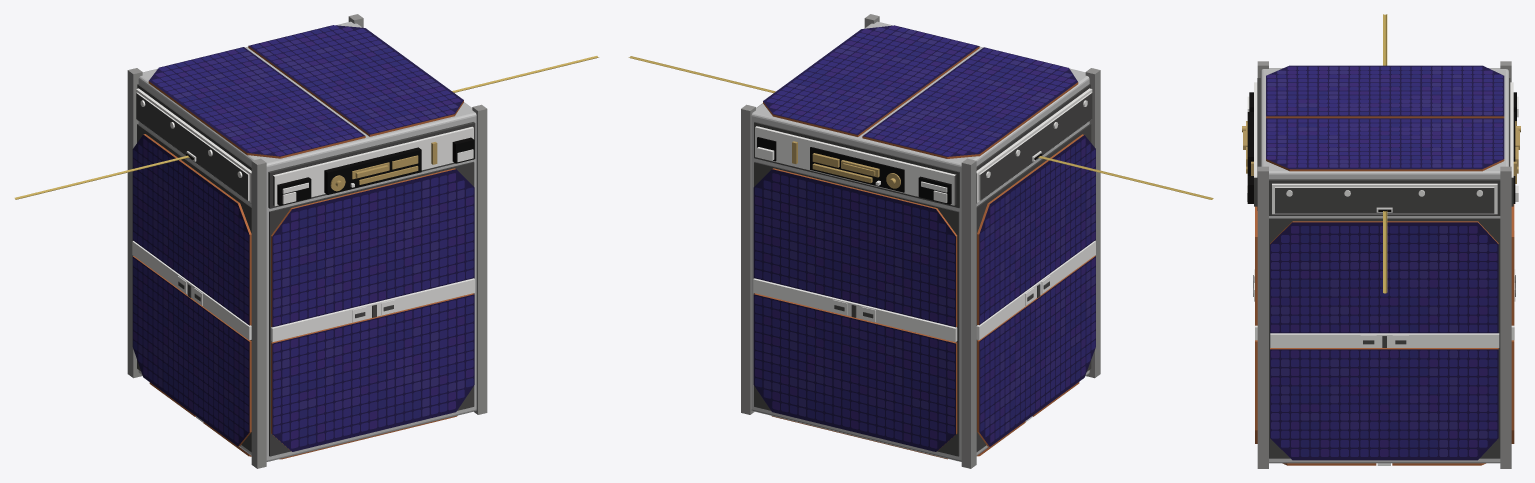
File: cubesat.dae
3 views of the same model, side by side, from view 1: azimuth 30°, elevation 25°; view 2: azimuth 150°, elevation 25°; view 3: azimuth 270°, elevation 25° (orthographic). The views are drawn at different scales.
Visible parts, largest first — view 1: node_28bcc737_0eda_4bf0_a1e6_ad0bfe55db49_mesh15, node_28bcc737_0eda_4bf0_a1e6_ad0bfe55db49_mesh6, node_28bcc737_0eda_4bf0_a1e6_ad0bfe55db49_mesh2, node_28bcc737_0eda_4bf0_a1e6_ad0bfe55db49_mesh4, node_28bcc737_0eda_4bf0_a1e6_ad0bfe55db49_mesh3, node_28bcc737_0eda_4bf0_a1e6_ad0bfe55db49_mesh13, node_28bcc737_0eda_4bf0_a1e6_ad0bfe55db49_mesh5, node_28bcc737_0eda_4bf0_a1e6_ad0bfe55db49_mesh14, node_28bcc737_0eda_4bf0_a1e6_ad0bfe55db49_mesh12, node_28bcc737_0eda_4bf0_a1e6_ad0bfe55db49_mesh1, node_28bcc737_0eda_4bf0_a1e6_ad0bfe55db49_mesh7, node_28bcc737_0eda_4bf0_a1e6_ad0bfe55db49_mesh0 (+4 smaller); view 2: node_28bcc737_0eda_4bf0_a1e6_ad0bfe55db49_mesh15, node_28bcc737_0eda_4bf0_a1e6_ad0bfe55db49_mesh6, node_28bcc737_0eda_4bf0_a1e6_ad0bfe55db49_mesh2, node_28bcc737_0eda_4bf0_a1e6_ad0bfe55db49_mesh4, node_28bcc737_0eda_4bf0_a1e6_ad0bfe55db49_mesh3, node_28bcc737_0eda_4bf0_a1e6_ad0bfe55db49_mesh13, node_28bcc737_0eda_4bf0_a1e6_ad0bfe55db49_mesh5, node_28bcc737_0eda_4bf0_a1e6_ad0bfe55db49_mesh14, node_28bcc737_0eda_4bf0_a1e6_ad0bfe55db49_mesh12, node_28bcc737_0eda_4bf0_a1e6_ad0bfe55db49_mesh1, node_28bcc737_0eda_4bf0_a1e6_ad0bfe55db49_mesh7, node_28bcc737_0eda_4bf0_a1e6_ad0bfe55db49_mesh0 (+4 smaller); view 3: node_28bcc737_0eda_4bf0_a1e6_ad0bfe55db49_mesh15, node_28bcc737_0eda_4bf0_a1e6_ad0bfe55db49_mesh6, node_28bcc737_0eda_4bf0_a1e6_ad0bfe55db49_mesh2, node_28bcc737_0eda_4bf0_a1e6_ad0bfe55db49_mesh12, node_28bcc737_0eda_4bf0_a1e6_ad0bfe55db49_mesh4, node_28bcc737_0eda_4bf0_a1e6_ad0bfe55db49_mesh3, node_28bcc737_0eda_4bf0_a1e6_ad0bfe55db49_mesh5, node_28bcc737_0eda_4bf0_a1e6_ad0bfe55db49_mesh13, node_28bcc737_0eda_4bf0_a1e6_ad0bfe55db49_mesh14, node_28bcc737_0eda_4bf0_a1e6_ad0bfe55db49_mesh1, node_28bcc737_0eda_4bf0_a1e6_ad0bfe55db49_mesh7, node_28bcc737_0eda_4bf0_a1e6_ad0bfe55db49_mesh0 (+4 smaller).
Part boxes in pixels (bbox=[...]): node_28bcc737_0eda_4bf0_a1e6_ad0bfe55db49_mesh15: bbox=[132, 25, 474, 453]; node_28bcc737_0eda_4bf0_a1e6_ad0bfe55db49_mesh6: bbox=[138, 31, 464, 437]; node_28bcc737_0eda_4bf0_a1e6_ad0bfe55db49_mesh2: bbox=[138, 29, 464, 441]; node_28bcc737_0eda_4bf0_a1e6_ad0bfe55db49_mesh4: bbox=[133, 27, 473, 448]; node_28bcc737_0eda_4bf0_a1e6_ad0bfe55db49_mesh3: bbox=[133, 25, 473, 432]; node_28bcc737_0eda_4bf0_a1e6_ad0bfe55db49_mesh13: bbox=[127, 14, 487, 468]; node_28bcc737_0eda_4bf0_a1e6_ad0bfe55db49_mesh5: bbox=[133, 27, 473, 446]; node_28bcc737_0eda_4bf0_a1e6_ad0bfe55db49_mesh14: bbox=[132, 88, 474, 422]; node_28bcc737_0eda_4bf0_a1e6_ad0bfe55db49_mesh12: bbox=[136, 84, 475, 456]; node_28bcc737_0eda_4bf0_a1e6_ad0bfe55db49_mesh1: bbox=[138, 40, 464, 416]; node_28bcc737_0eda_4bf0_a1e6_ad0bfe55db49_mesh7: bbox=[138, 21, 476, 461]; node_28bcc737_0eda_4bf0_a1e6_ad0bfe55db49_mesh0: bbox=[138, 39, 464, 424]; node_28bcc737_0eda_4bf0_a1e6_ad0bfe55db49_mesh15: bbox=[753, 25, 1095, 451]; node_28bcc737_0eda_4bf0_a1e6_ad0bfe55db49_mesh6: bbox=[763, 33, 1095, 437]; node_28bcc737_0eda_4bf0_a1e6_ad0bfe55db49_mesh2: bbox=[763, 27, 1095, 441]; node_28bcc737_0eda_4bf0_a1e6_ad0bfe55db49_mesh4: bbox=[755, 25, 1095, 448]; node_28bcc737_0eda_4bf0_a1e6_ad0bfe55db49_mesh3: bbox=[754, 29, 1095, 438]; node_28bcc737_0eda_4bf0_a1e6_ad0bfe55db49_mesh13: bbox=[741, 14, 1100, 468]; node_28bcc737_0eda_4bf0_a1e6_ad0bfe55db49_mesh5: bbox=[755, 41, 1085, 446]; node_28bcc737_0eda_4bf0_a1e6_ad0bfe55db49_mesh14: bbox=[753, 88, 1095, 421]; node_28bcc737_0eda_4bf0_a1e6_ad0bfe55db49_mesh12: bbox=[754, 84, 1092, 456]; node_28bcc737_0eda_4bf0_a1e6_ad0bfe55db49_mesh1: bbox=[763, 27, 1095, 431]; node_28bcc737_0eda_4bf0_a1e6_ad0bfe55db49_mesh7: bbox=[751, 21, 1089, 461]; node_28bcc737_0eda_4bf0_a1e6_ad0bfe55db49_mesh0: bbox=[763, 40, 1095, 424]; node_28bcc737_0eda_4bf0_a1e6_ad0bfe55db49_mesh15: bbox=[1266, 65, 1504, 460]; node_28bcc737_0eda_4bf0_a1e6_ad0bfe55db49_mesh6: bbox=[1267, 66, 1492, 456]; node_28bcc737_0eda_4bf0_a1e6_ad0bfe55db49_mesh2: bbox=[1267, 66, 1492, 456]; node_28bcc737_0eda_4bf0_a1e6_ad0bfe55db49_mesh12: bbox=[1253, 78, 1515, 458]; node_28bcc737_0eda_4bf0_a1e6_ad0bfe55db49_mesh4: bbox=[1267, 66, 1502, 456]; node_28bcc737_0eda_4bf0_a1e6_ad0bfe55db49_mesh3: bbox=[1267, 66, 1502, 456]; node_28bcc737_0eda_4bf0_a1e6_ad0bfe55db49_mesh5: bbox=[1288, 66, 1502, 456]; node_28bcc737_0eda_4bf0_a1e6_ad0bfe55db49_mesh13: bbox=[1257, 61, 1511, 468]; node_28bcc737_0eda_4bf0_a1e6_ad0bfe55db49_mesh14: bbox=[1247, 82, 1518, 465]; node_28bcc737_0eda_4bf0_a1e6_ad0bfe55db49_mesh1: bbox=[1267, 66, 1492, 456]; node_28bcc737_0eda_4bf0_a1e6_ad0bfe55db49_mesh7: bbox=[1260, 68, 1508, 463]; node_28bcc737_0eda_4bf0_a1e6_ad0bfe55db49_mesh0: bbox=[1267, 79, 1492, 429].
Bounding box in the file's own units: 5.19 × 2.6 × 2.2.
